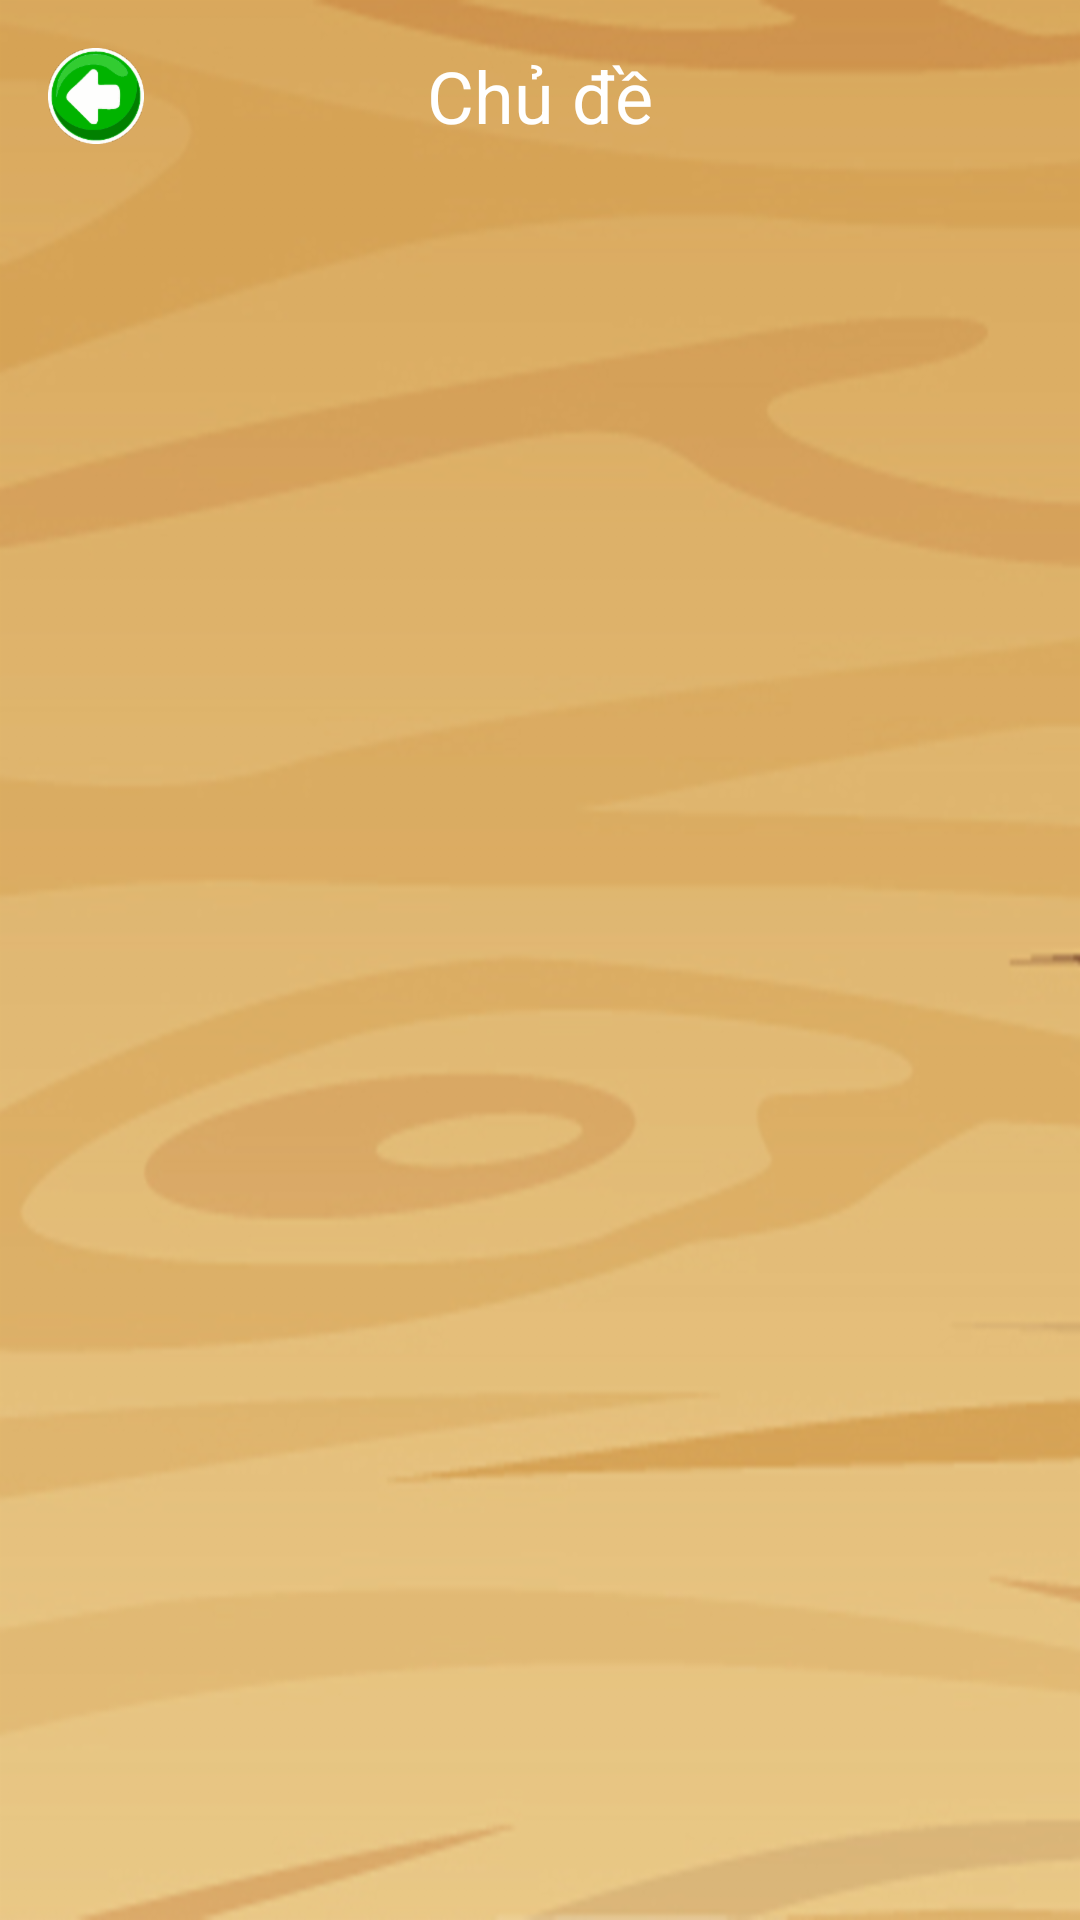

Icon click points for this 1080px x 1920px phone screenshot, format (x=x, y=y):
Image Back: (x=96, y=96)
